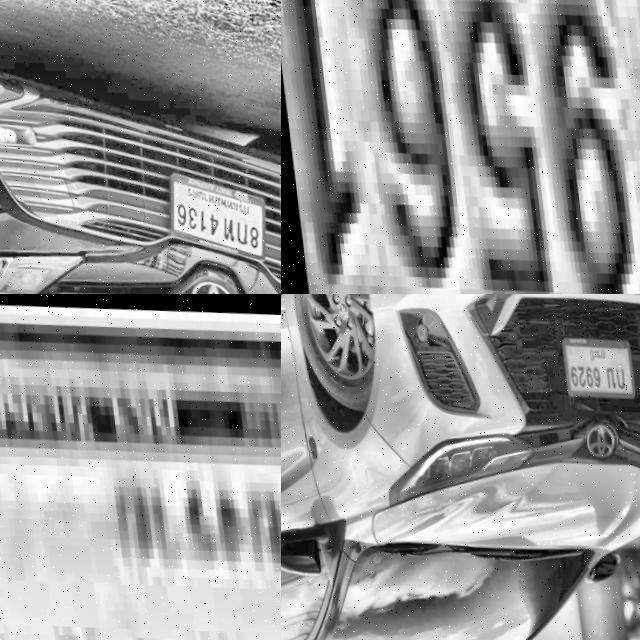license-plate: (281, 0, 640, 294), (0, 294, 281, 640), (156, 158, 268, 259), (552, 325, 636, 396)
